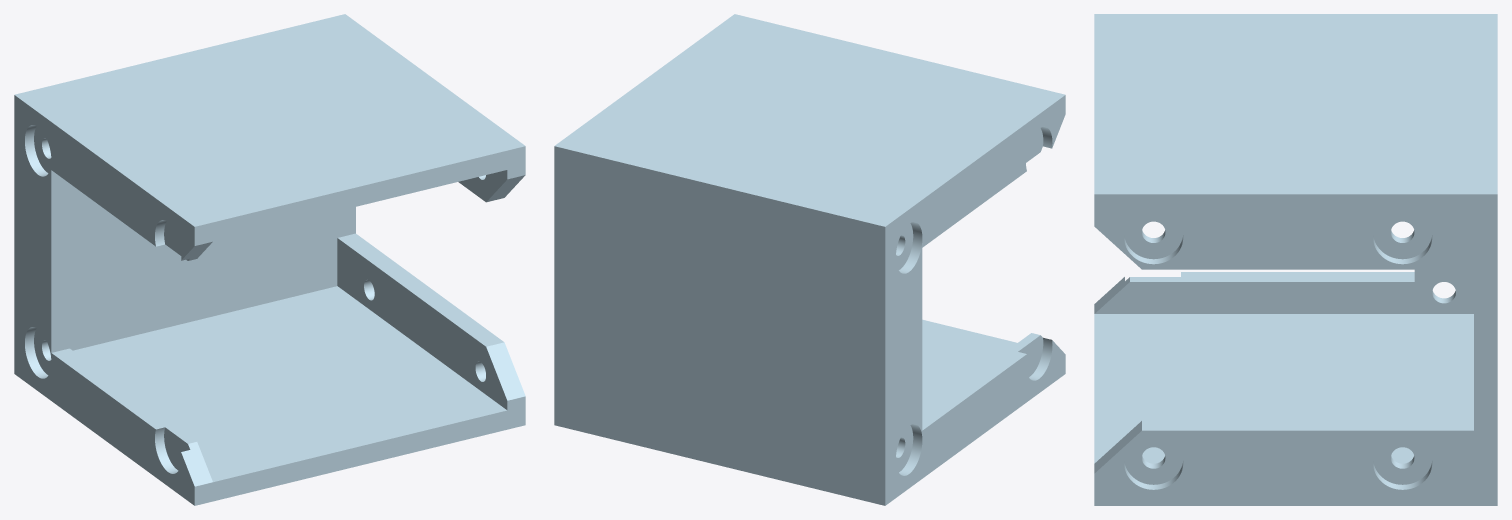
3 views of the same model, side by side, from view 1: azimuth 30°, elevation 25°; view 2: azimuth 150°, elevation 25°; view 3: azimuth 270°, elevation 25° (orthographic). The views are drawn at different scales.
Visible parts, largest first — view 1: mesh291, mesh279, mesh278, mesh307, mesh282, mesh294, mesh293, mesh299, mesh280, mesh298, mesh281, mesh295 (+2 smaller); view 2: mesh292, mesh291, mesh307, mesh279, mesh298; view 3: mesh291, mesh289, mesh279, mesh300, mesh280, mesh298, mesh287, mesh284, mesh269, mesh276, mesh281.
Boxes of the visible parts, x1,y1,x2,y2 form: mesh291: [14, 14, 525, 226]; mesh279: [73, 286, 506, 482]; mesh278: [69, 184, 355, 350]; mesh307: [14, 95, 194, 505]; mesh282: [337, 238, 507, 409]; mesh294: [194, 396, 525, 505]; mesh293: [194, 146, 525, 245]; mesh299: [51, 170, 69, 352]; mesh280: [338, 233, 503, 346]; mesh298: [52, 348, 196, 443]; mesh281: [486, 342, 525, 400]; mesh295: [181, 442, 212, 486]; mesh292: [554, 146, 885, 505]; mesh291: [554, 14, 1065, 226]; mesh307: [885, 95, 1065, 505]; mesh279: [922, 319, 1016, 412]; mesh298: [922, 333, 1040, 430]; mesh291: [1094, 14, 1497, 194]; mesh289: [1094, 194, 1497, 505]; mesh279: [1094, 314, 1473, 463]; mesh300: [1095, 269, 1473, 313]; mesh280: [1142, 420, 1473, 430]; mesh298: [1130, 272, 1414, 281]; mesh287: [1124, 436, 1182, 484]; mesh284: [1373, 436, 1431, 484]; mesh269: [1373, 210, 1431, 259]; mesh276: [1124, 210, 1182, 259]; mesh281: [1094, 421, 1141, 473].
Size of the model in its own units: 0.036 by 0.029 by 0.034.
